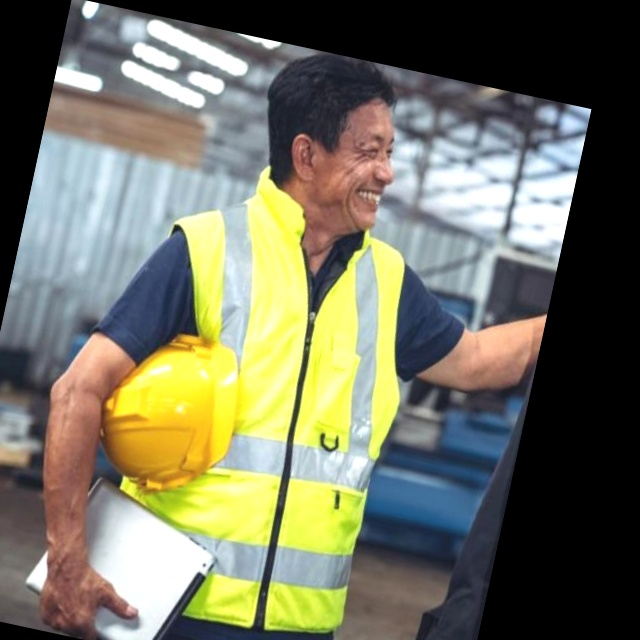Con_Chaleco: (95, 190, 430, 640)
Sin_Casco_Mascarrilla: (247, 43, 408, 234)
